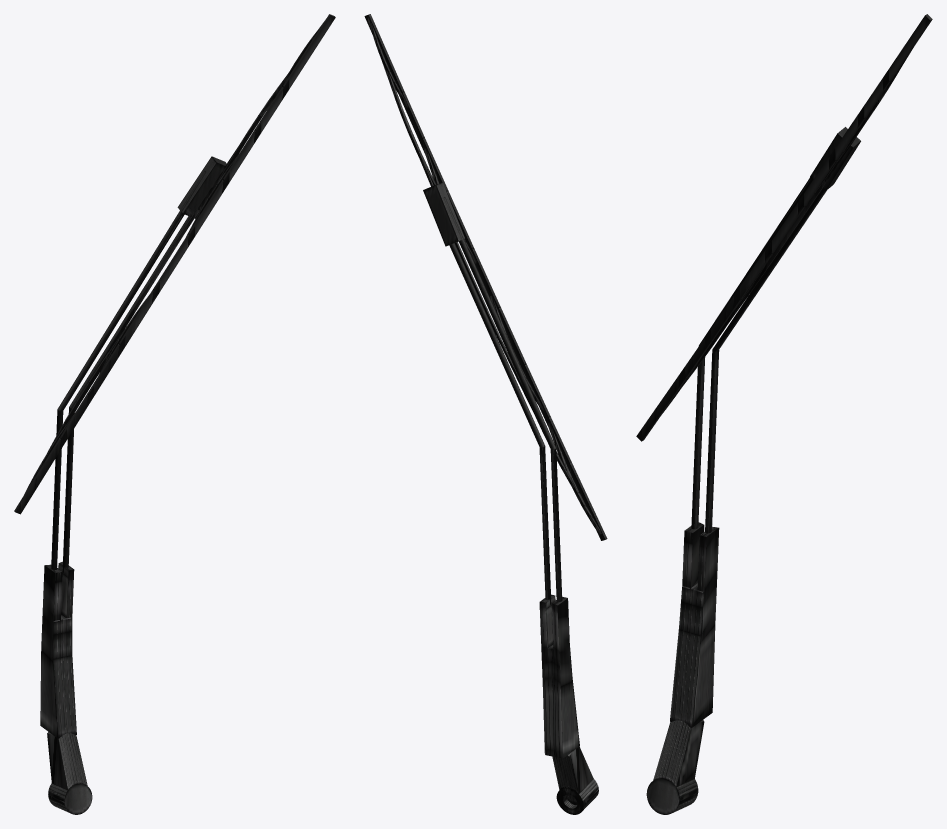
File: wiber.glb
3 views of the same model, side by side, from view 1: azimuth 30°, elevation 25°; view 2: azimuth 150°, elevation 25°; view 3: azimuth 330°, elevation 25° (orthographic). The views are drawn at different scales.
Visible parts, largest first — view 1: Plane.006; view 2: Plane.006; view 3: Plane.006.
Part boxes in pixels (left/top/right/bottom): Plane.006: left=14, top=14, right=335, bottom=814; Plane.006: left=364, top=14, right=607, bottom=814; Plane.006: left=636, top=14, right=932, bottom=814.
Bounding box in the file's own units: 10.42 × 26.26 × 2.9.
Materials: 1 (1 with a texture image).
